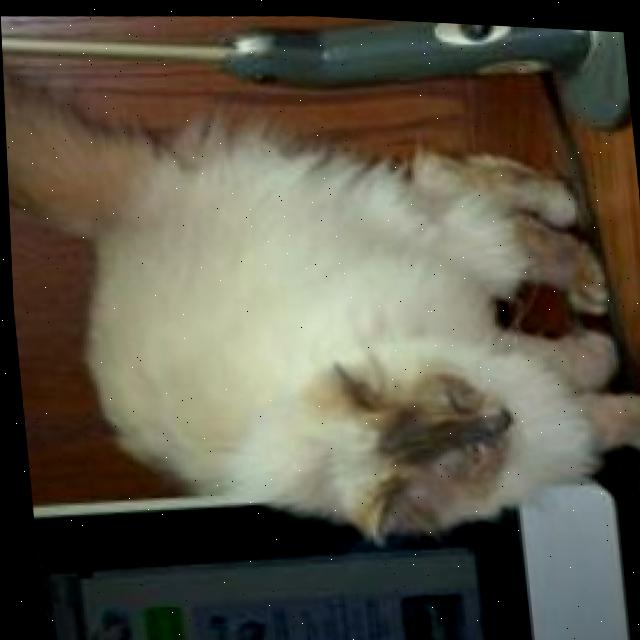Ragdoll: (0, 0, 640, 578)
